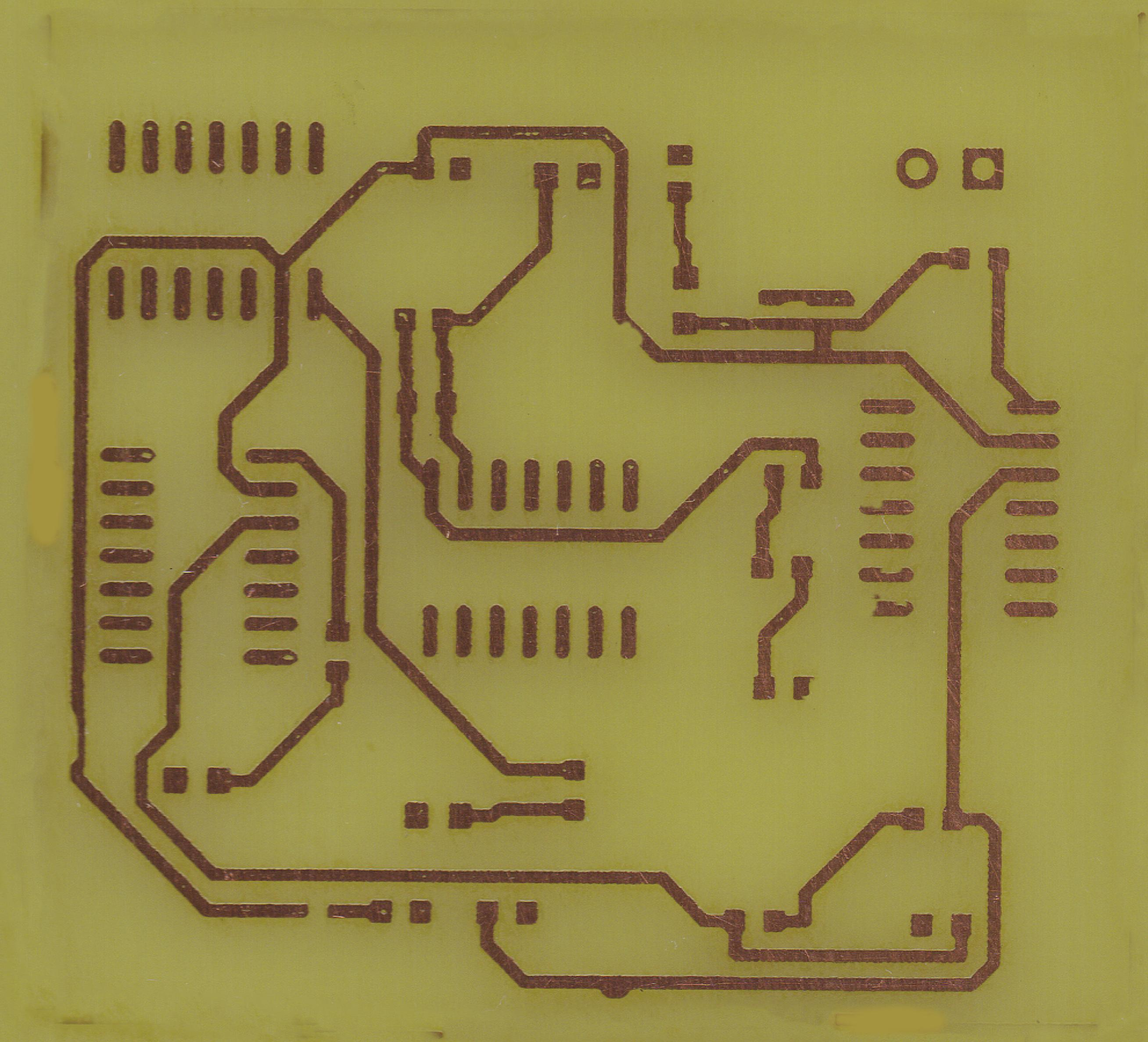missing_hole: (793, 675, 817, 702)
mouse_bite: (612, 311, 653, 351), (68, 708, 82, 770)
open_circuit: (296, 900, 344, 924)
short: (809, 317, 839, 369)
spur: (595, 970, 635, 1004)
spurious_copper: (756, 286, 857, 308)
